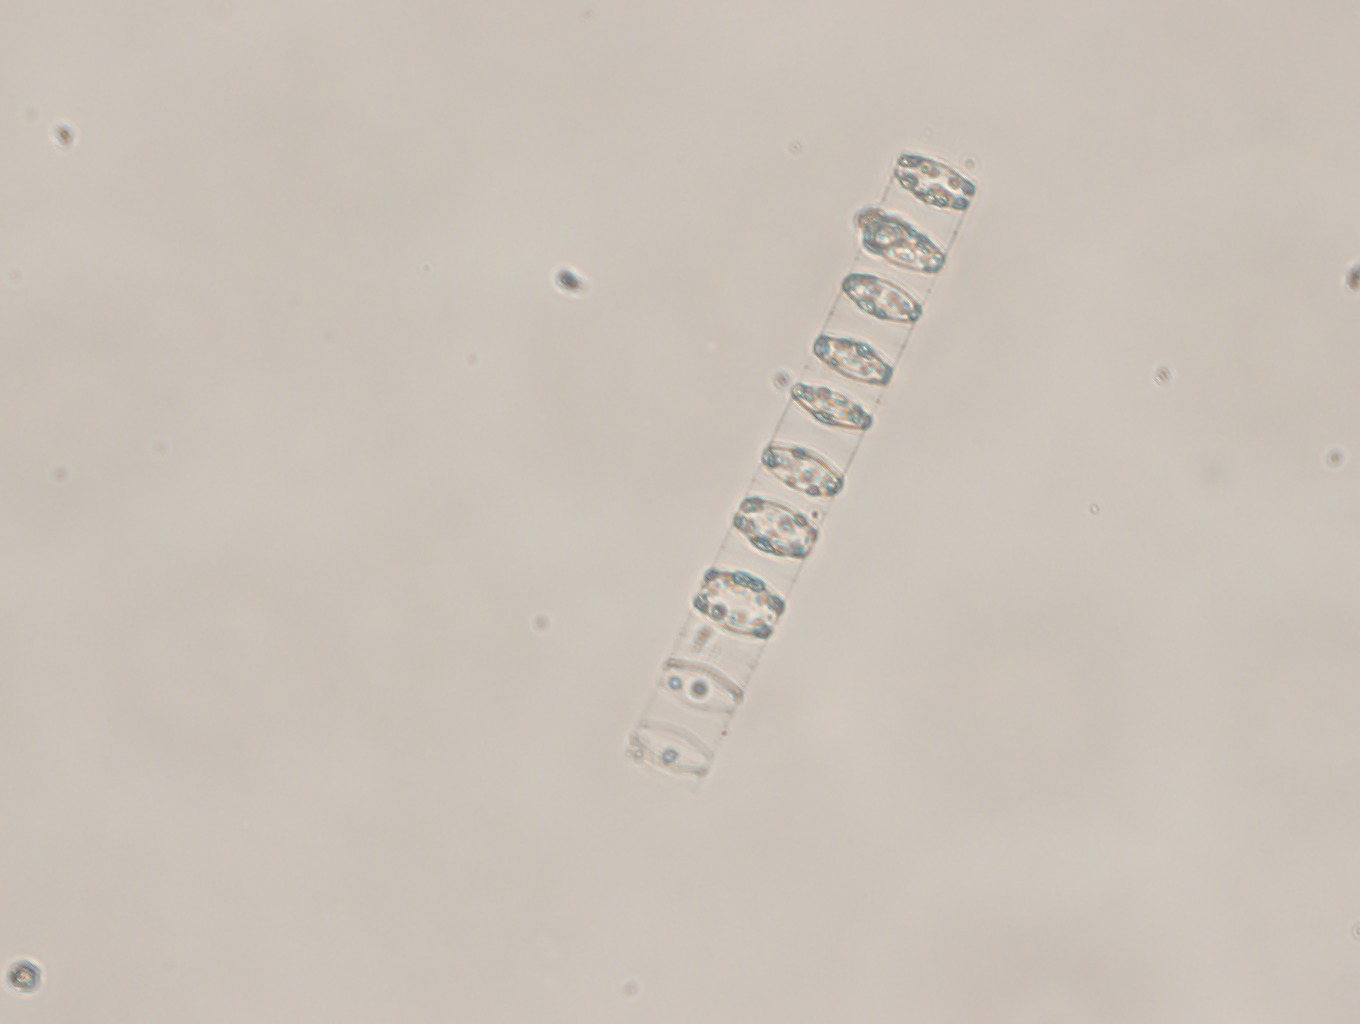skeletonema: (598, 142, 983, 810)
